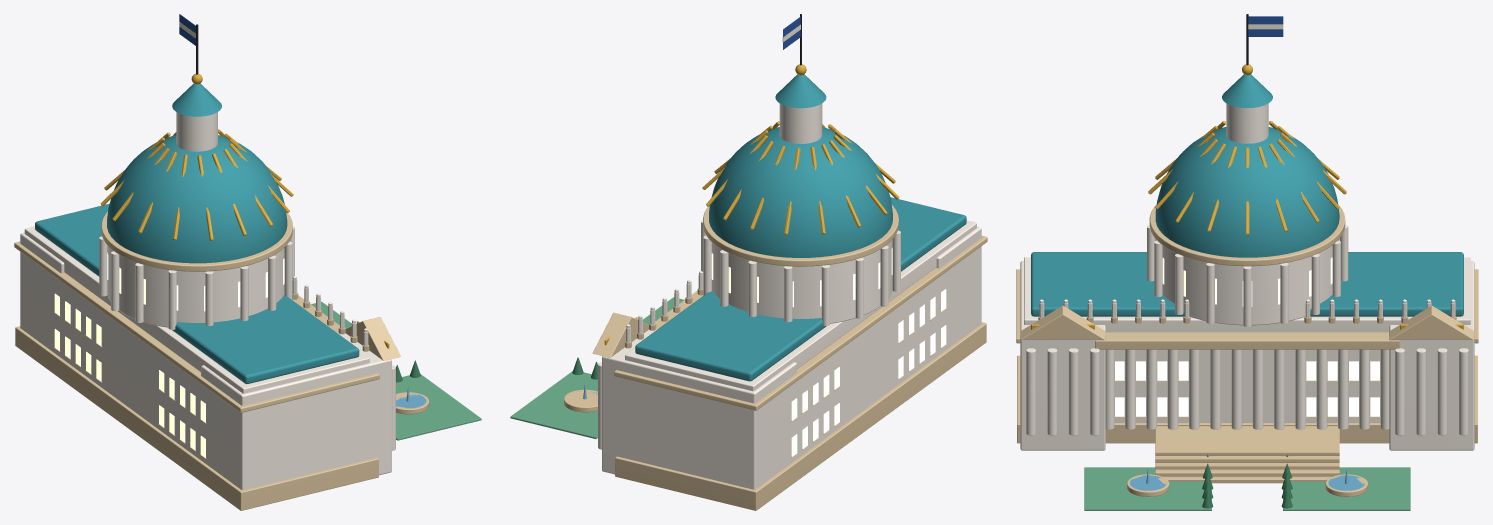
File: parliament.glb
The picture shows the model from 3 angles, left to right: view 1: azimuth 30°, elevation 25°; view 2: azimuth 150°, elevation 25°; view 3: azimuth 270°, elevation 25°; orthographic projection. The views are drawn at different scales.
Parts seen in each view (by area): view 1: parliament; view 2: parliament; view 3: parliament.
Boxes of the visible parts, <box> form: parliament: <box>14,14,481,510</box>; parliament: <box>510,14,987,510</box>; parliament: <box>1016,14,1478,510</box>.
Size of the model in its own units: 48.2 by 61.4 by 65.2.
1 material, 1 textured.
